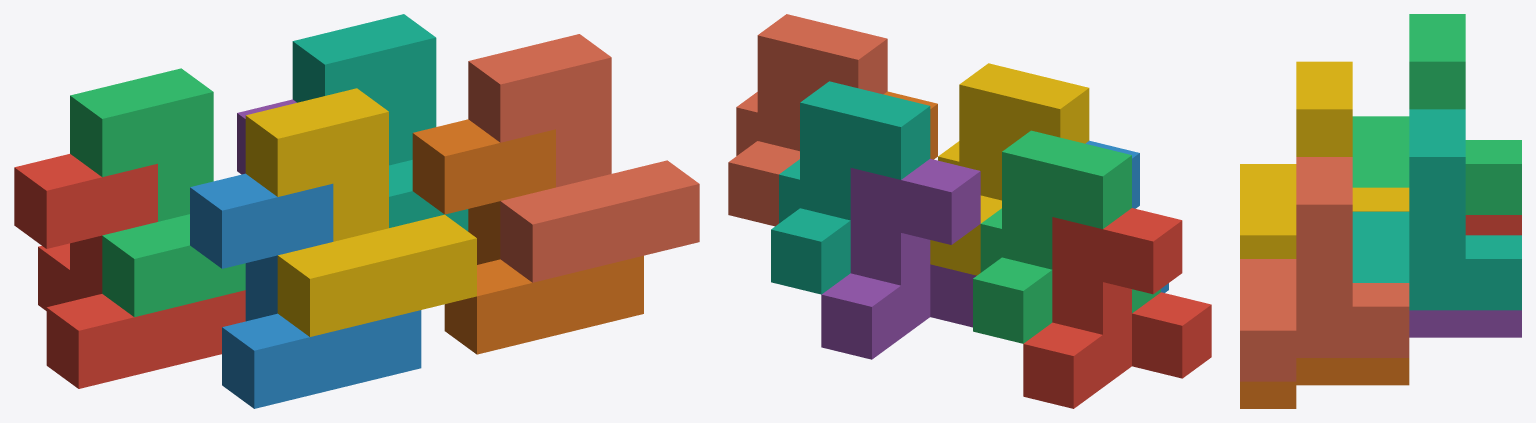
File: tiling.obj
3 renders of one model, left to right at view 1: azimuth 30°, elevation 25°; view 2: azimuth 150°, elevation 25°; view 3: azimuth 270°, elevation 25°, orthographic. The views are drawn at different scales.
Parts seen in each view (by area): view 1: copy_1_domain_4, copy_1_domain_8, copy_1_domain_1, copy_1_domain_2, copy_1_domain_6, copy_1_domain_3, copy_1_domain_7, copy_1_domain_5; view 2: copy_1_domain_1, copy_1_domain_5, copy_1_domain_3, copy_1_domain_7, copy_1_domain_8, copy_1_domain_4, copy_1_domain_2, copy_1_domain_6; view 3: copy_1_domain_8, copy_1_domain_7, copy_1_domain_3, copy_1_domain_4, copy_1_domain_6, copy_1_domain_5, copy_1_domain_1.
Boxes of the visible parts, x1=… form: copy_1_domain_4: x1=245, y1=88, x2=476, y2=336; copy_1_domain_8: x1=468, y1=34, x2=699, y2=282; copy_1_domain_1: x1=14, y1=154, x2=245, y2=388; copy_1_domain_2: x1=190, y1=173, x2=421, y2=408; copy_1_domain_6: x1=412, y1=119, x2=643, y2=354; copy_1_domain_3: x1=70, y1=68, x2=245, y2=317; copy_1_domain_7: x1=292, y1=14, x2=468, y2=231; copy_1_domain_5: x1=237, y1=99, x2=296, y2=174; copy_1_domain_1: x1=1023, y1=208, x2=1211, y2=408; copy_1_domain_5: x1=821, y1=158, x2=980, y2=359; copy_1_domain_3: x1=973, y1=130, x2=1160, y2=343; copy_1_domain_7: x1=771, y1=81, x2=930, y2=294; copy_1_domain_8: x1=728, y1=14, x2=887, y2=226; copy_1_domain_4: x1=930, y1=63, x2=1089, y2=275; copy_1_domain_2: x1=1085, y1=140, x2=1168, y2=292; copy_1_domain_6: x1=883, y1=91, x2=937, y2=159; copy_1_domain_8: x1=1240, y1=157, x2=1409, y2=381; copy_1_domain_7: x1=1352, y1=109, x2=1521, y2=310; copy_1_domain_3: x1=1352, y1=14, x2=1521, y2=214; copy_1_domain_4: x1=1240, y1=61, x2=1409, y2=258; copy_1_domain_6: x1=1240, y1=358, x2=1409, y2=408; copy_1_domain_5: x1=1409, y1=310, x2=1521, y2=337; copy_1_domain_1: x1=1465, y1=215, x2=1521, y2=235.
Size of the model in its own units: 10 by 4 by 5.
